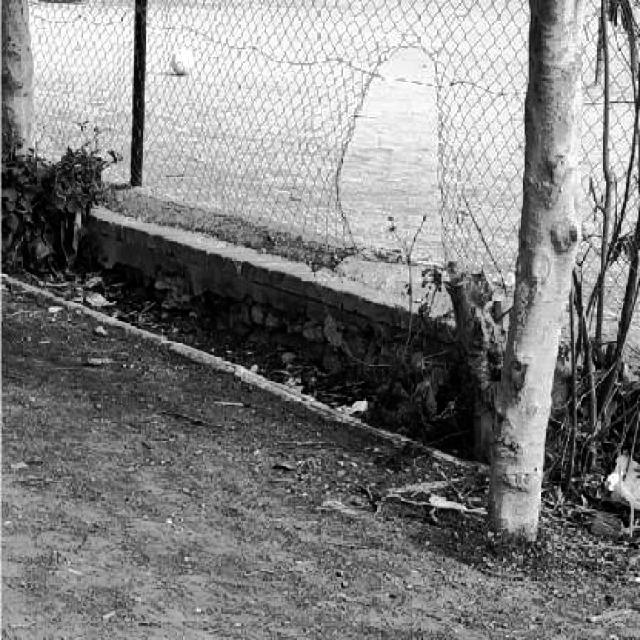anomaly-fence: (327, 49, 472, 272)
